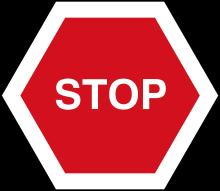Stop: (18, 1, 193, 176)
